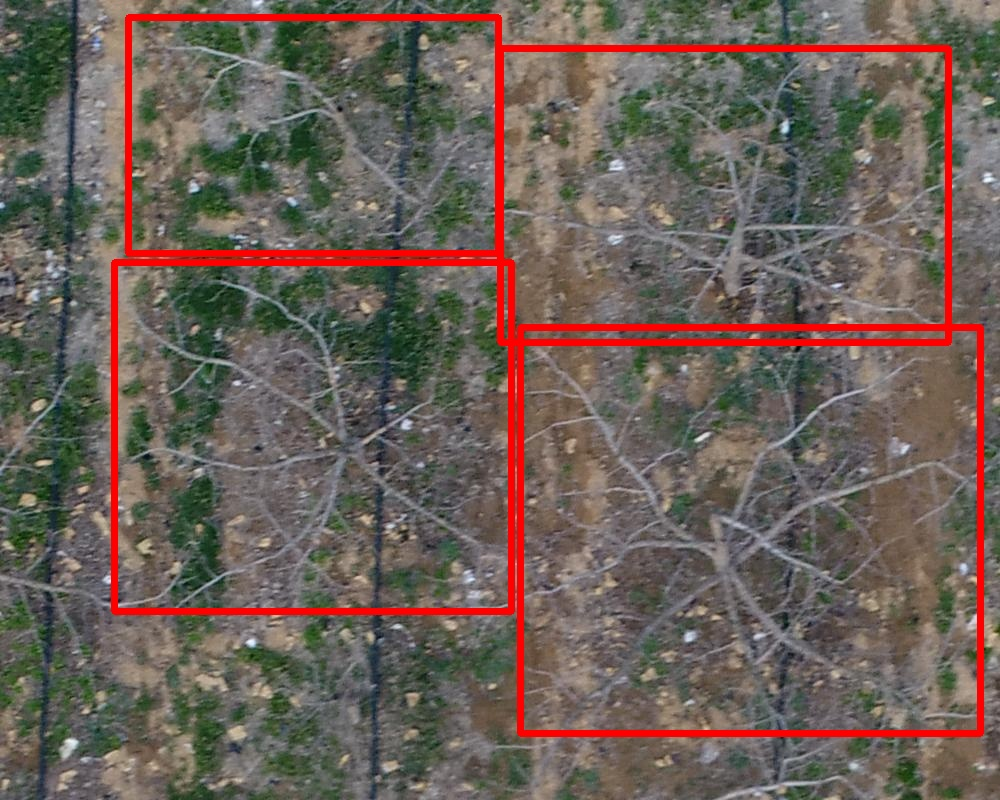apple: (520, 327, 980, 733), (114, 262, 511, 611), (500, 48, 948, 342), (128, 17, 498, 253)
